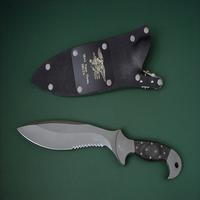knife: (13, 111, 195, 184)
